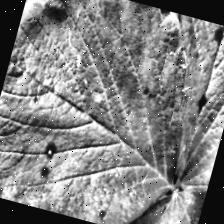Leaf Spot: (0, 0, 217, 224), (121, 10, 224, 198), (75, 155, 207, 224)
